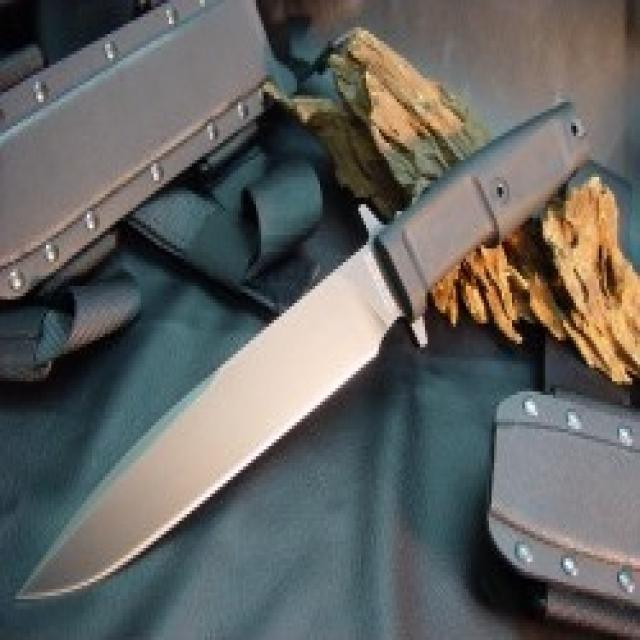knife: (15, 95, 595, 608)
